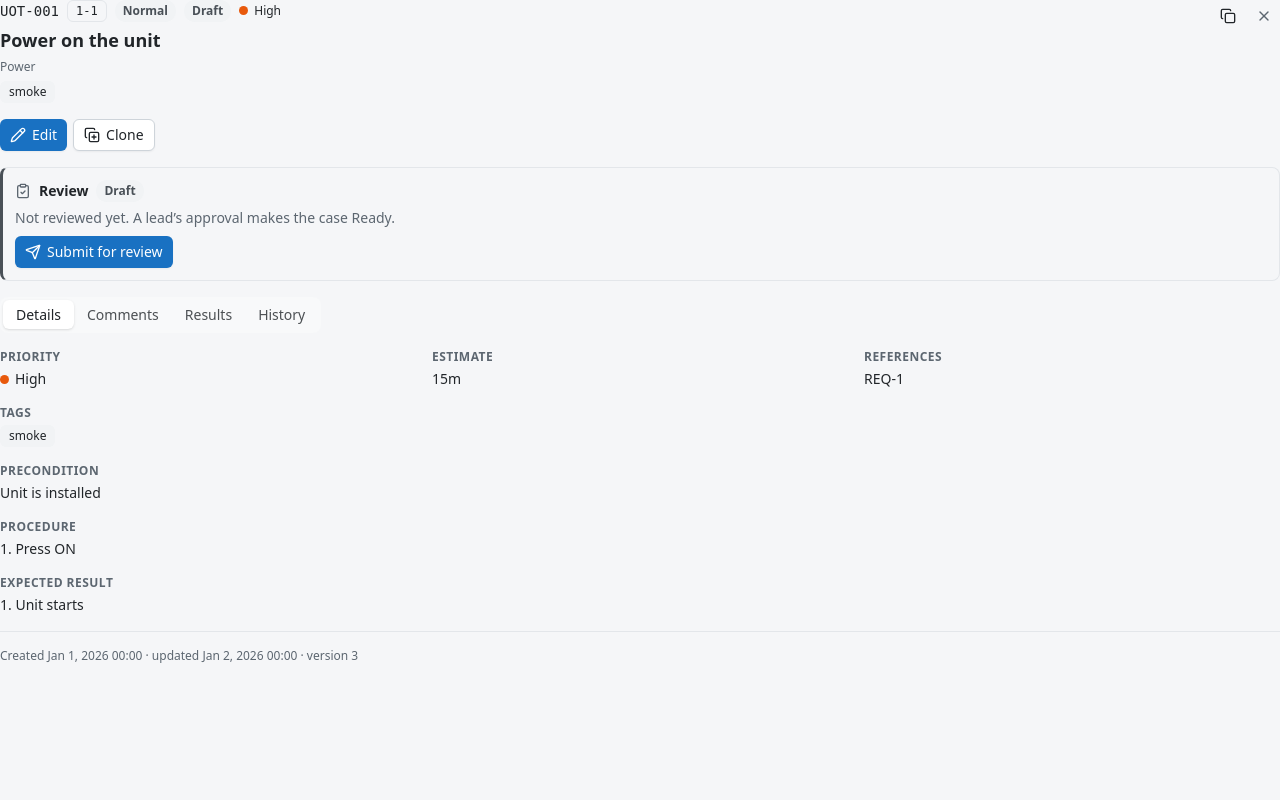
it: CaseDetail › submits a draft case for review to a chosen lead
Expected: the text "Not reviewed yet. A lead’s approval makes the case Ready." is shown, [15, 208, 395, 227]
Click the button "Submit for review". click: (94, 252)
box: [15, 236, 172, 268]
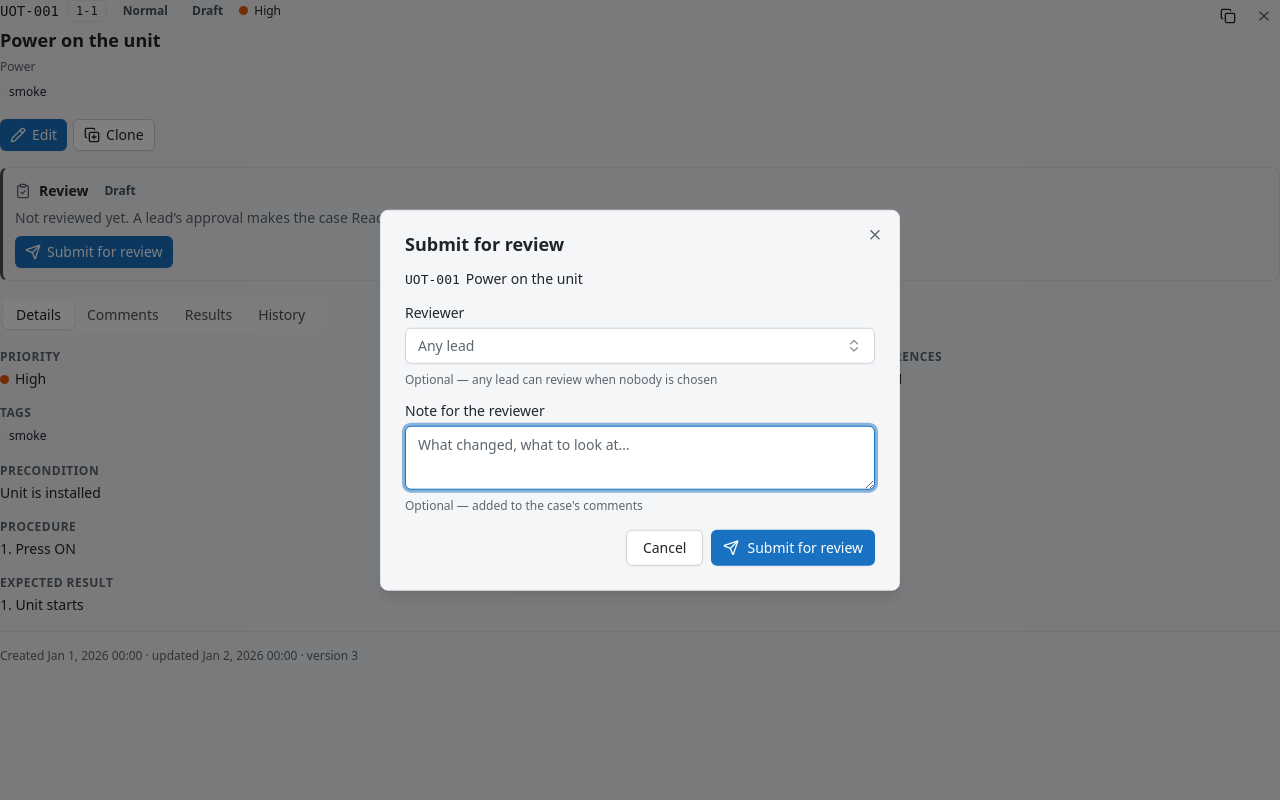
Click the dropdown named "Reviewer". click: (446, 345)
box: [405, 327, 875, 363]
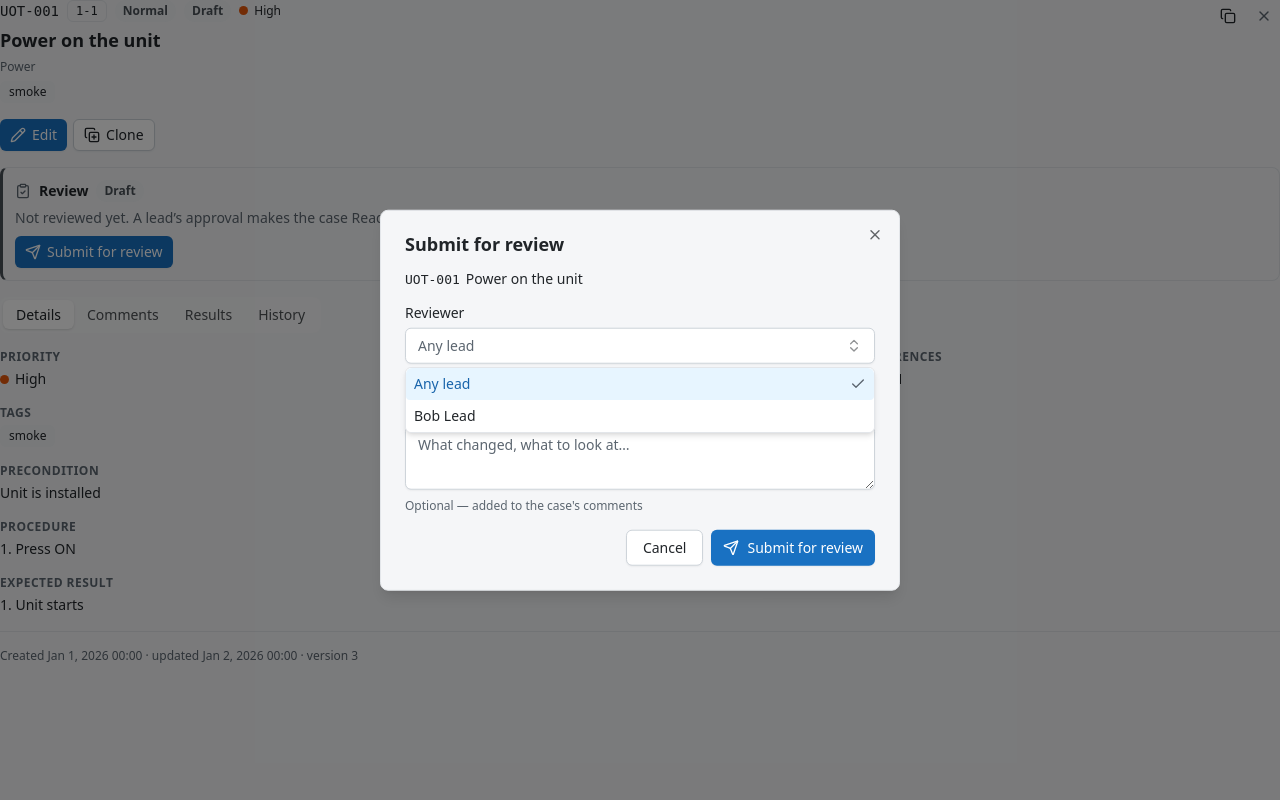
Click the option "Bob Lead". click: (445, 416)
box: [414, 406, 476, 425]
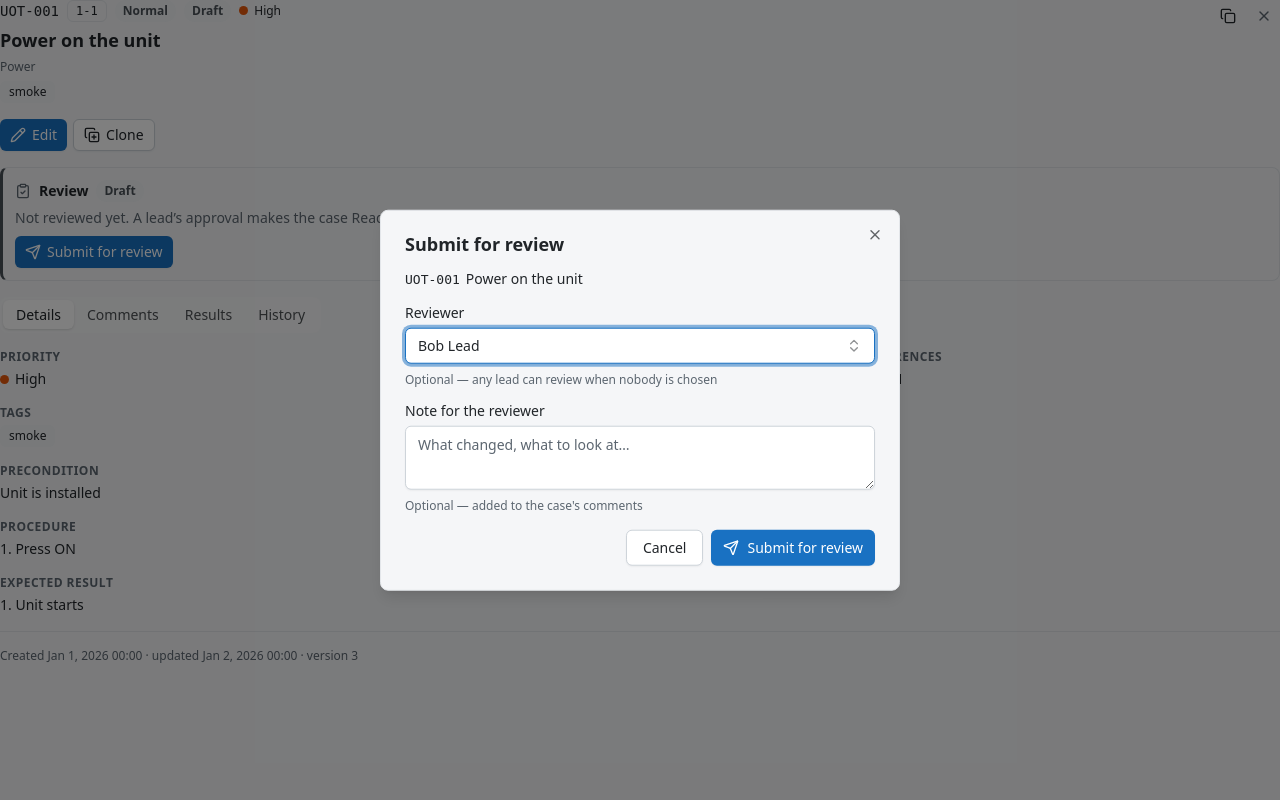
Type "Please check" into the text box labelled "Note for the reviewer". click: (640, 457)
box: [405, 425, 875, 489]
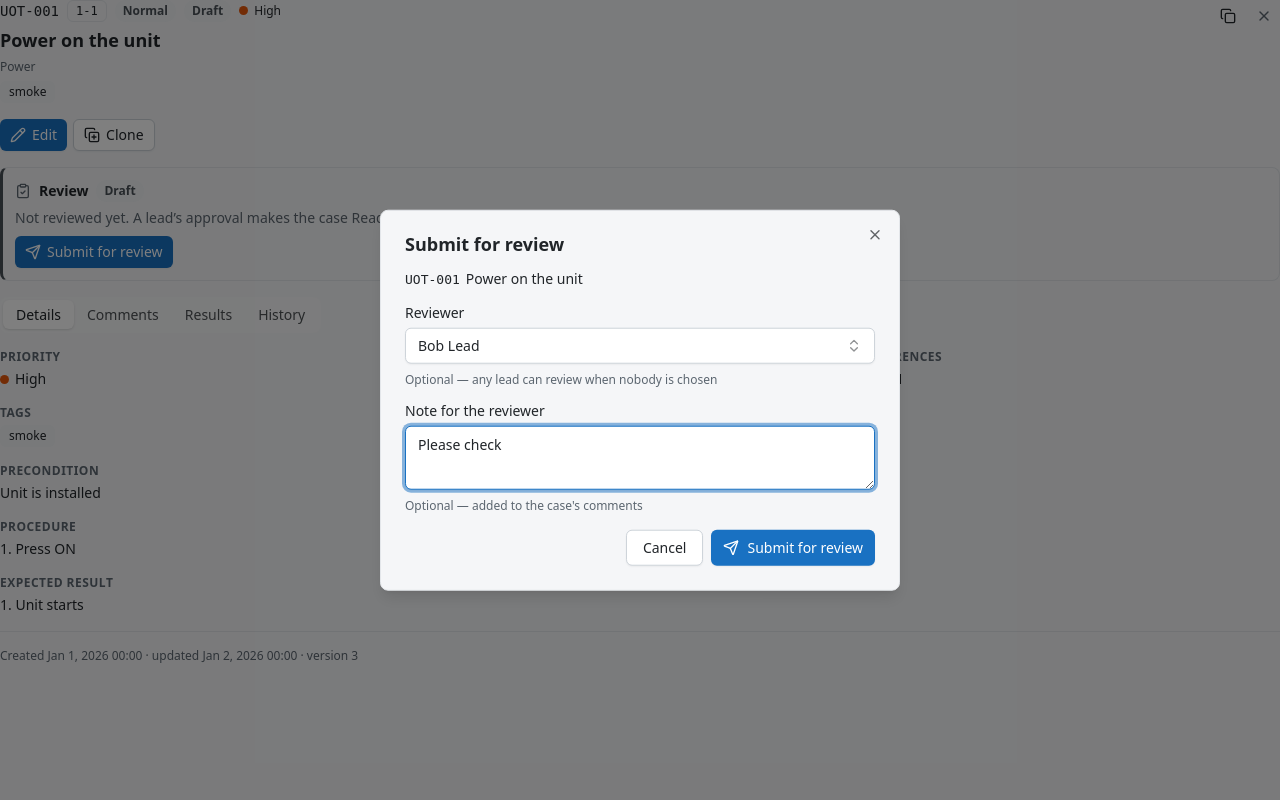
Click the button "Submit for review". click: (793, 547)
box: [712, 529, 875, 565]
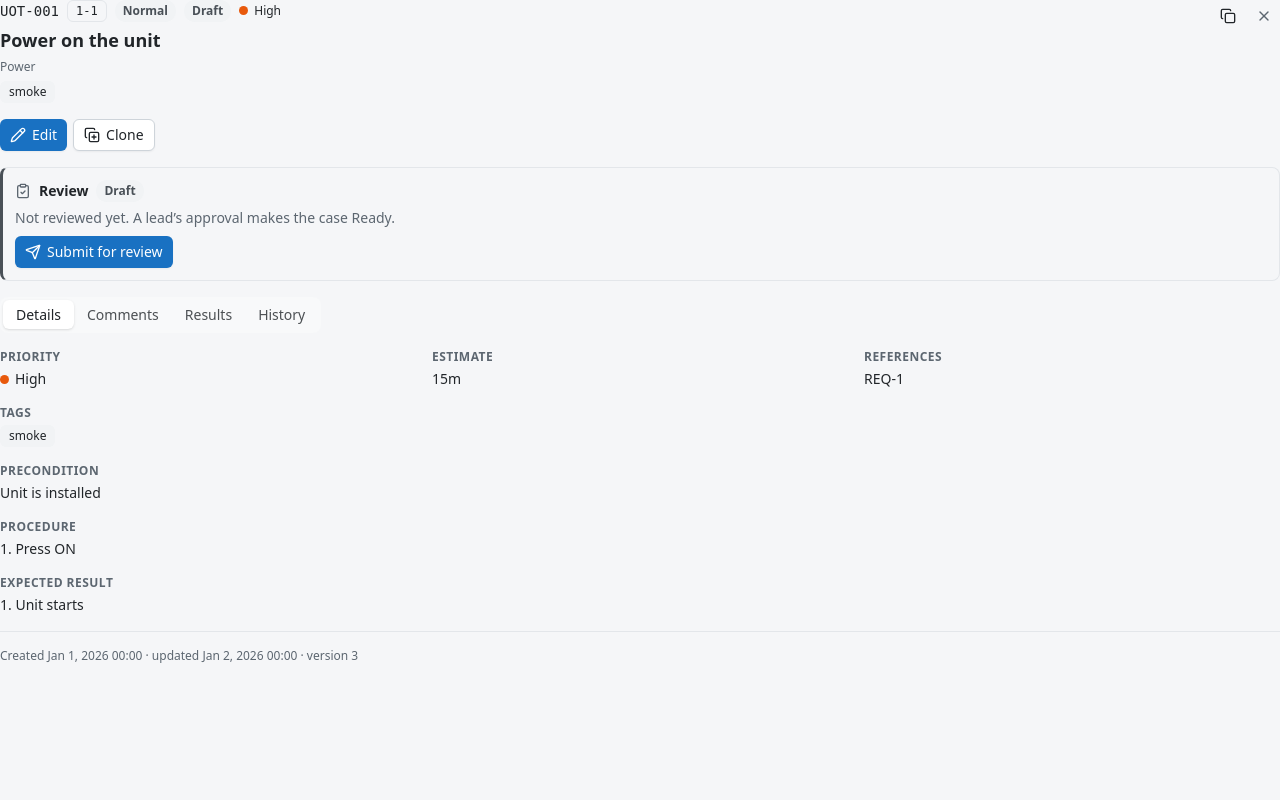
Result: the dialog is gone
